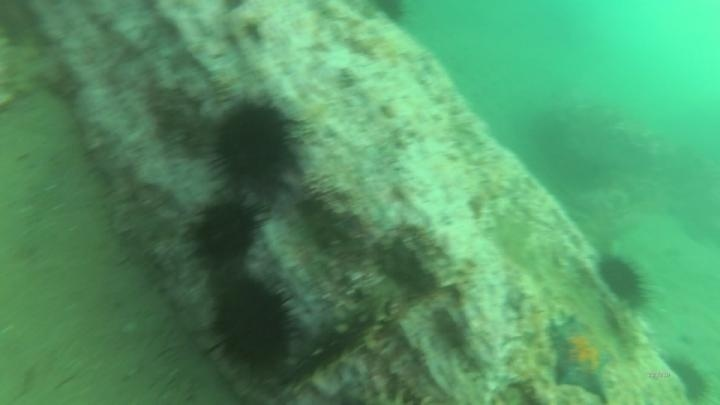echinus: (205, 93, 302, 195), (207, 274, 299, 375), (188, 196, 265, 268), (594, 252, 652, 310), (659, 353, 712, 404)
holothurian: (277, 285, 397, 385)
starfish: (544, 313, 618, 403)
